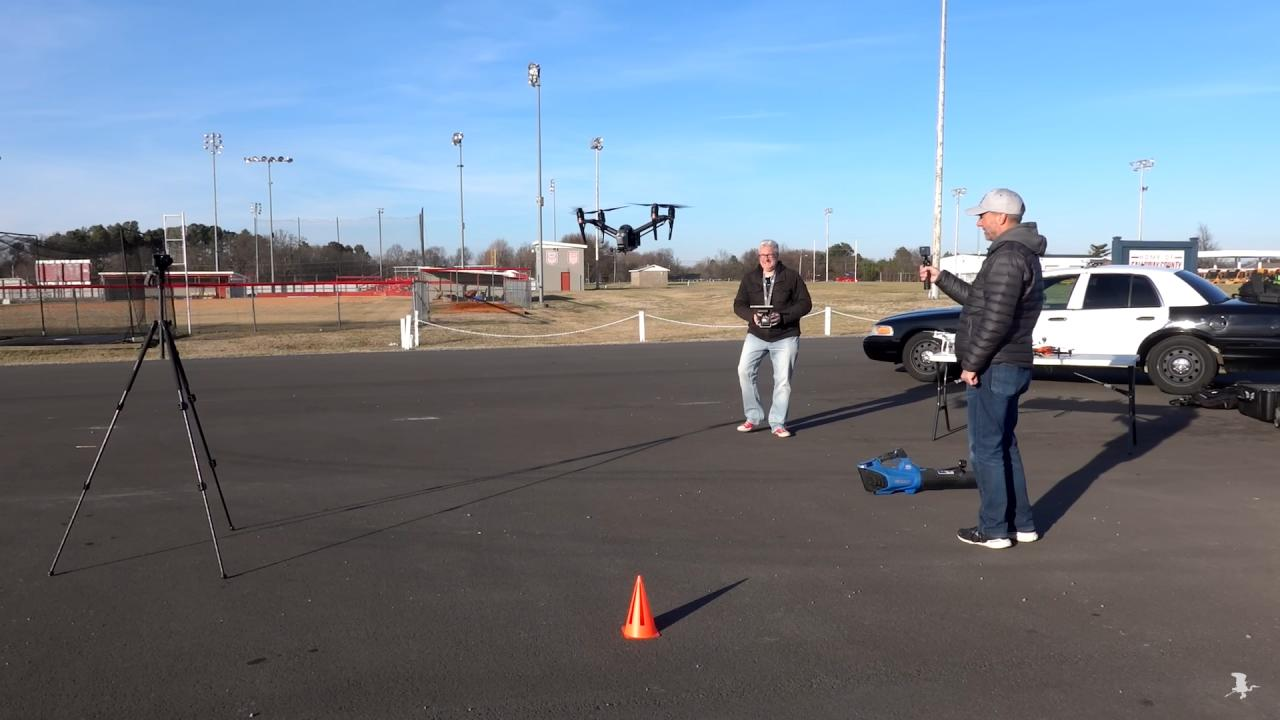Drone: (554, 189, 706, 265)
